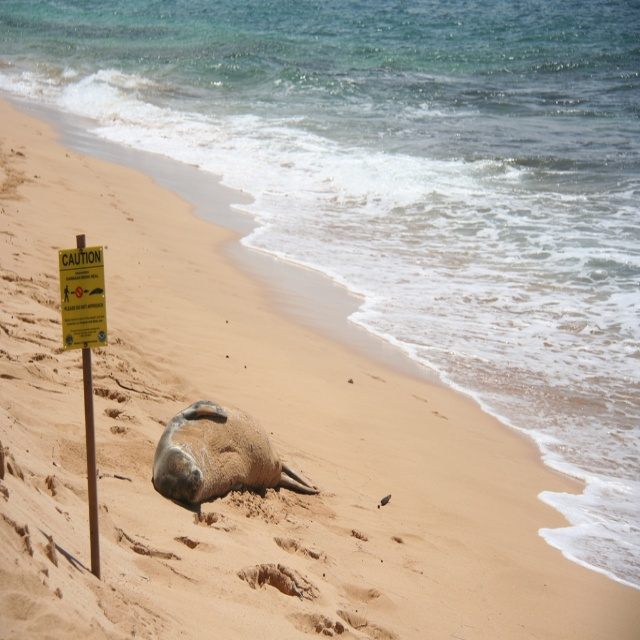Sea lion: (149, 395, 318, 506)
